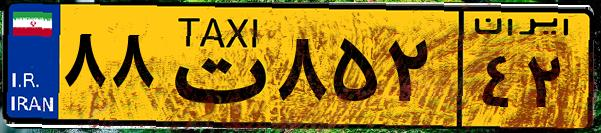2: (385, 28, 445, 110), (525, 38, 570, 115)
4: (475, 38, 525, 113)
5: (330, 28, 385, 110)
8: (270, 28, 330, 110), (57, 26, 110, 100), (110, 28, 158, 98)
ت: (158, 12, 270, 120)
